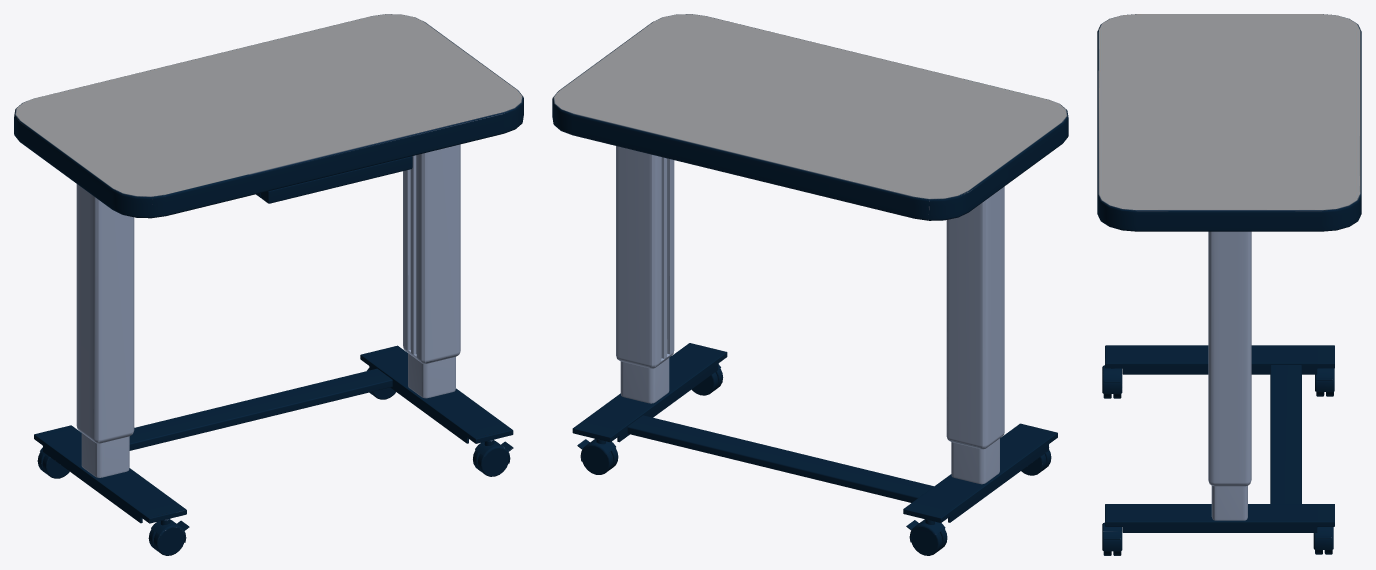
The picture shows the model from 3 angles, left to right: view 1: azimuth 30°, elevation 25°; view 2: azimuth 150°, elevation 25°; view 3: azimuth 270°, elevation 25°; orthographic projection.
Visible parts, largest first — view 1: pCube1, pCube2, pCube8, pCube5, pCube4, pCube7, pCube10, pCube3, pCube9, pCylinder1, pCylinder6; view 2: pCube1, pCube2, pCube8, pCube5, pCube4, pCube7, pCube9, pCube3, pCylinder17, pCylinder14; view 3: pCube1, pCube8, pCube7, pCube4, pCube5, pCube9, pCylinder3, pCylinder7, pCylinder18, pCylinder15.
Boxes of the visible parts, box(x1,y1,x2,y2) form: pCube1: box(14, 14, 523, 218); pCube2: box(76, 184, 134, 443); pCube8: box(403, 144, 460, 363); pCube5: box(129, 368, 392, 450); pCube4: box(34, 425, 186, 523); pCube7: box(360, 345, 513, 443); pCube10: box(256, 156, 412, 203); pCube3: box(81, 433, 129, 477); pCube9: box(408, 353, 455, 398); pCylinder1: box(477, 448, 508, 476); pCylinder6: box(153, 527, 184, 555); pCube1: box(552, 14, 1068, 220); pCube2: box(946, 186, 1004, 449); pCube8: box(616, 146, 674, 368); pCube5: box(627, 415, 933, 502); pCube4: box(903, 423, 1057, 522); pCube7: box(572, 343, 727, 442); pCube9: box(620, 358, 669, 403); pCube3: box(951, 438, 999, 484); pCylinder17: box(911, 527, 942, 555); pCylinder14: box(582, 446, 613, 474); pCube1: box(1097, 14, 1361, 231); pCube8: box(1208, 231, 1251, 486); pCube7: box(1105, 504, 1334, 532); pCube4: box(1105, 345, 1334, 374); pCube5: box(1270, 365, 1301, 503); pCube9: box(1211, 486, 1247, 520); pCylinder3: box(1102, 365, 1122, 393); pCylinder7: box(1102, 522, 1122, 551); pCylinder18: box(1315, 368, 1334, 391); pCylinder15: box(1313, 527, 1333, 549).
Size of the model in its own units: 0.7503 by 0.6438 by 0.4246.
1 material, 1 textured.
